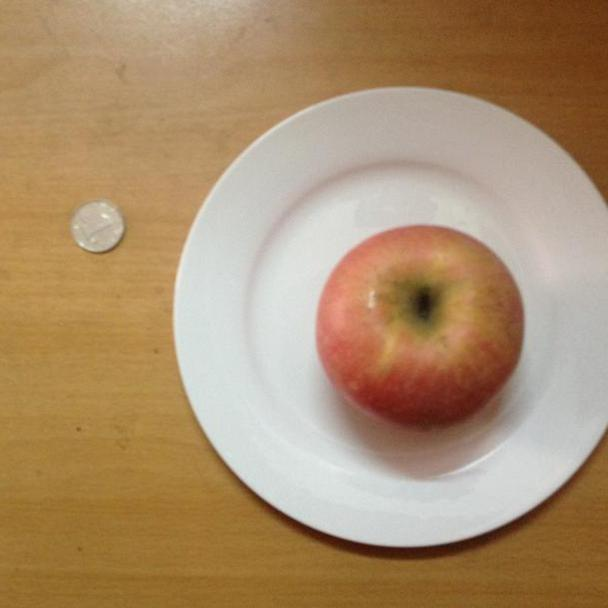apple: (316, 223, 527, 430)
